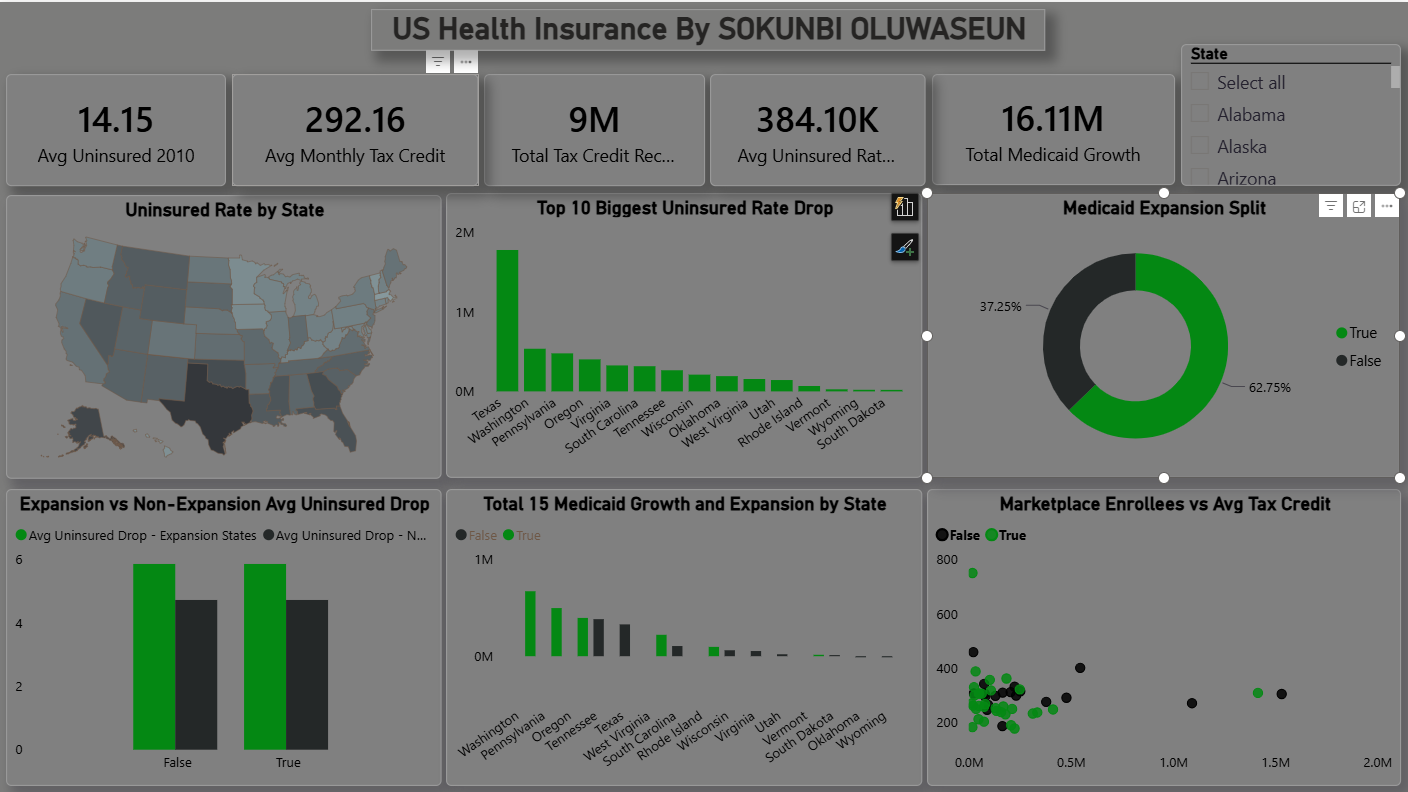

What the dashboard file says about the page in this screenshot:
{"tool":"powerbi","page":{"name":"Page 1","canvas":[1280,720],"ordinal":0},"visuals":[{"type":"cardVisual","fields":{"Data":["Health Insurrance.Avg Uninsured 2010"]},"box":[5,65,200,102],"z":0},{"type":"shapeMap","title":"Uninsured Rate by State","fields":{"Category":["Health Insurrance.State"],"Value":["Sum(Health Insurrance.Uninsured Rate (2015))"]},"box":[5,175,396.2,257.5],"z":1000},{"type":"clusteredColumnChart","title":"Top 10 Biggest Uninsured Rate Drop","fields":{"Category":["Health Insurrance.State"],"Y":["Health Insurrance.Avg Uninsured Rate Drop"]},"box":[405.8,173.8,433.1,259.4],"z":2000},{"type":"donutChart","title":"Medicaid Expansion Split","fields":{"Category":["Health Insurrance.State Medicaid Expansion (2016)"],"Y":["CountNonNull(Health Insurrance.State)"]},"box":[843,174,430,259],"z":3000},{"type":"clusteredColumnChart","title":"Expansion vs Non-Expansion Avg Uninsured Drop","fields":{"Category":["Health Insurrance.State Medicaid Expansion (2016)"],"Y":["Health Insurrance.Avg Uninsured Drop - Expansion States","Health Insurrance.Avg Uninsured Drop - Non Expansion States"]},"box":[5.7,442.9,395.7,270],"z":4000},{"type":"clusteredColumnChart","title":"Total 15  Medicaid Growth and Expansion by State","fields":{"Category":["Health Insurrance.State"],"Series":["Health Insurrance.State Medicaid Expansion (2016)"],"Y":["Health Insurrance.Total Medicaid Growth"]},"box":[405.7,442.9,432.9,270],"z":5000},{"type":"scatterChart","title":"Marketplace Enrollees vs Avg Tax Credit","fields":{"Category":["Health Insurrance.State"],"Series":["Health Insurrance.State Medicaid Expansion (2016)"],"X":["Sum(Health Insurrance.Marketplace Health Insurance Coverage (2016))"],"Y":["Sum(Health Insurrance.Average Monthly Tax Credit (2016))"]},"box":[842.9,442.9,431.4,270],"z":6000},{"type":"cardVisual","fields":{"Data":["Health Insurrance.Total Tax Credit Recipients"]},"box":[440,65,201,102],"z":7000},{"type":"cardVisual","fields":{"Data":["Health Insurrance.Total Medicaid Growth"]},"box":[847.5,65.8,220.8,100.8],"z":8000},{"type":"cardVisual","fields":{"Data":["Health Insurrance.Avg Monthly Tax Credit"]},"box":[211,65,224,102],"z":9000},{"type":"slicer","fields":{"Values":["Health Insurrance.State"]},"box":[1074,38,200,129],"z":10000},{"type":"cardVisual","fields":{"Data":["Health Insurrance.Avg Uninsured Rate Drop"]},"box":[645.8,65,195.8,101.7],"z":11000},{"type":"textbox","title":" US Health Insurance By SOKUNBI OLUWASEUN","box":[337.5,6.7,613.3,38.3],"z":12000}]}

Visuals, with their boxes in screenshot pixels (x1, y1, x2, y2), scaled from the page's 1280x720 canvas onto the 1408x792 screenshot:
cardVisual - Health Insurrance.Avg Uninsured 2010: 6,72,226,184
"Uninsured Rate by State" shapeMap: 6,193,441,476
"Top 10 Biggest Uninsured Rate Drop" clusteredColumnChart: 446,191,923,477
"Medicaid Expansion Split" donutChart: 927,191,1400,476
"Expansion vs Non-Expansion Avg Uninsured Drop" clusteredColumnChart: 6,487,442,784
"Total 15  Medicaid Growth and Expansion by State" clusteredColumnChart: 446,487,922,784
"Marketplace Enrollees vs Avg Tax Credit" scatterChart: 927,487,1402,784
cardVisual - Health Insurrance.Total Tax Credit Recipients: 484,72,705,184
cardVisual - Health Insurrance.Total Medicaid Growth: 932,72,1175,183
cardVisual - Health Insurrance.Avg Monthly Tax Credit: 232,72,479,184
slicer - Health Insurrance.State: 1181,42,1401,184
cardVisual - Health Insurrance.Avg Uninsured Rate Drop: 710,72,926,183
" US Health Insurance By SOKUNBI OLUWASEUN" textbox: 371,7,1046,50
